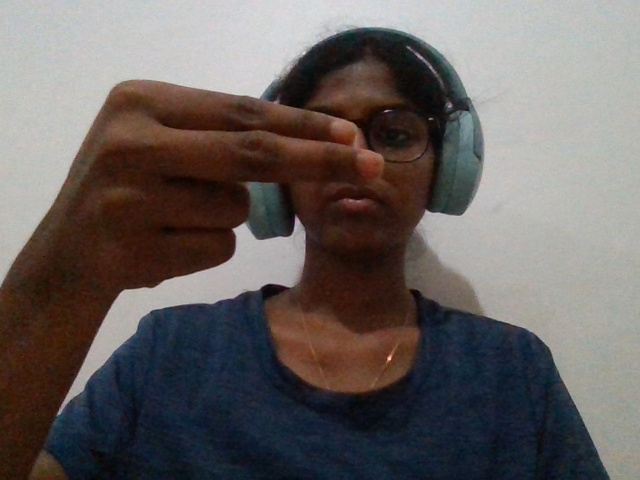H: (24, 40, 394, 382)
